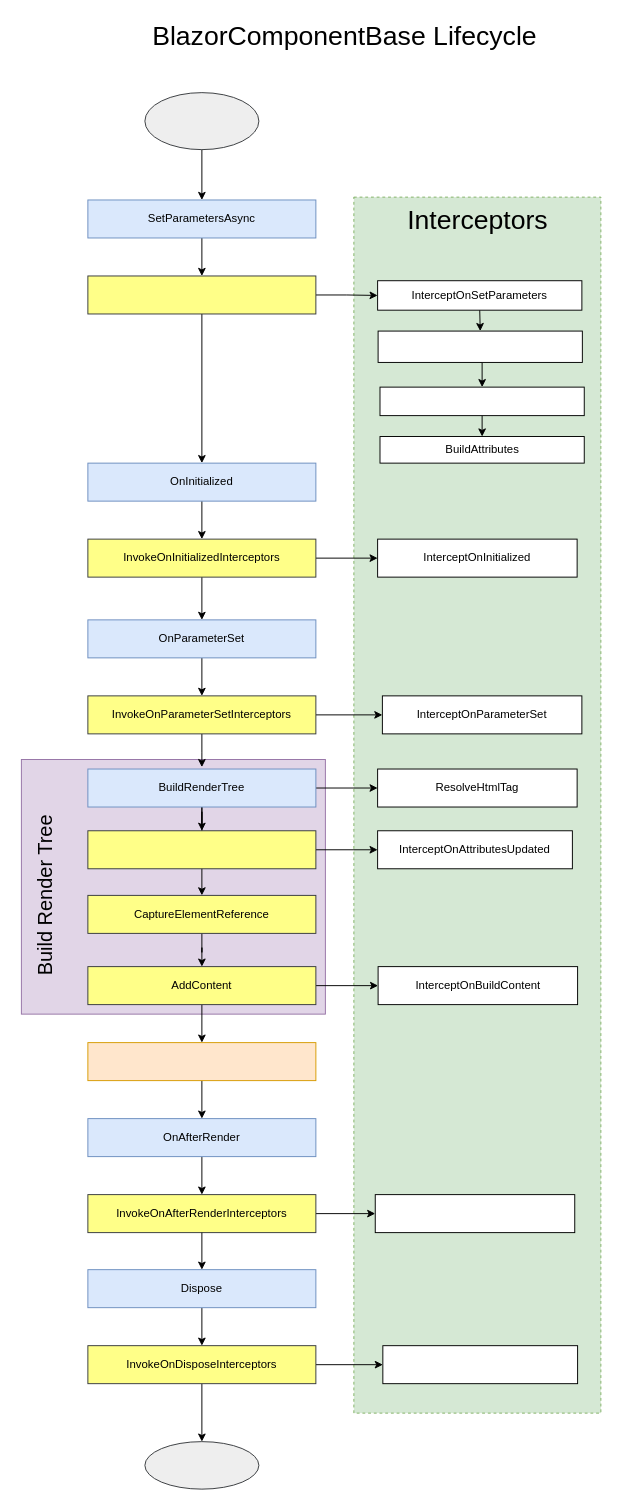
Some shapes in this 618 by 1506 pixel diagram are drawn without their labels. Each missing label, with the box of its shape:
BuildComponentAttributes: (87, 830, 316, 869)
End: (144, 1441, 259, 1489)
InterceptOnAfterRender: (374, 1194, 575, 1233)
InterceptOnDispose: (382, 1345, 578, 1384)
InterceptOnResolvedAttributes: (379, 386, 584, 416)
InvokeSetParameterInterceptors: (87, 275, 316, 314)
Render Component: (87, 1042, 316, 1081)
ResolvedHtmlAttributes: (377, 330, 582, 362)
Start: (144, 92, 259, 150)
